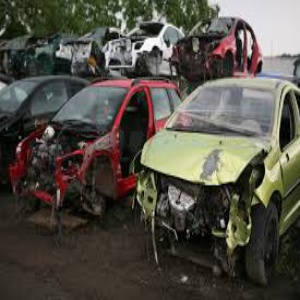bonnet: (149, 130, 249, 182)
bumper: (132, 186, 245, 277)
